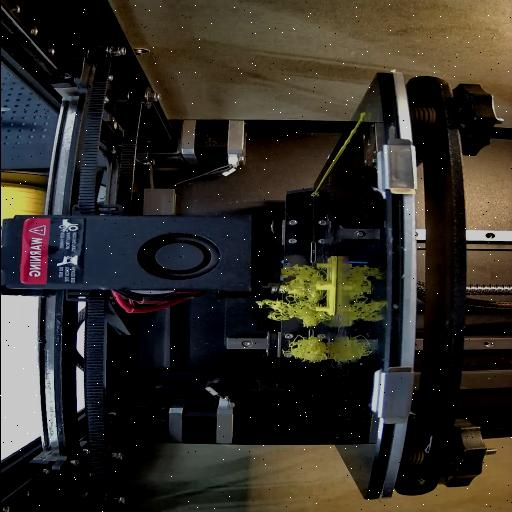spaghetti: (262, 261, 322, 326), (283, 336, 327, 366)
